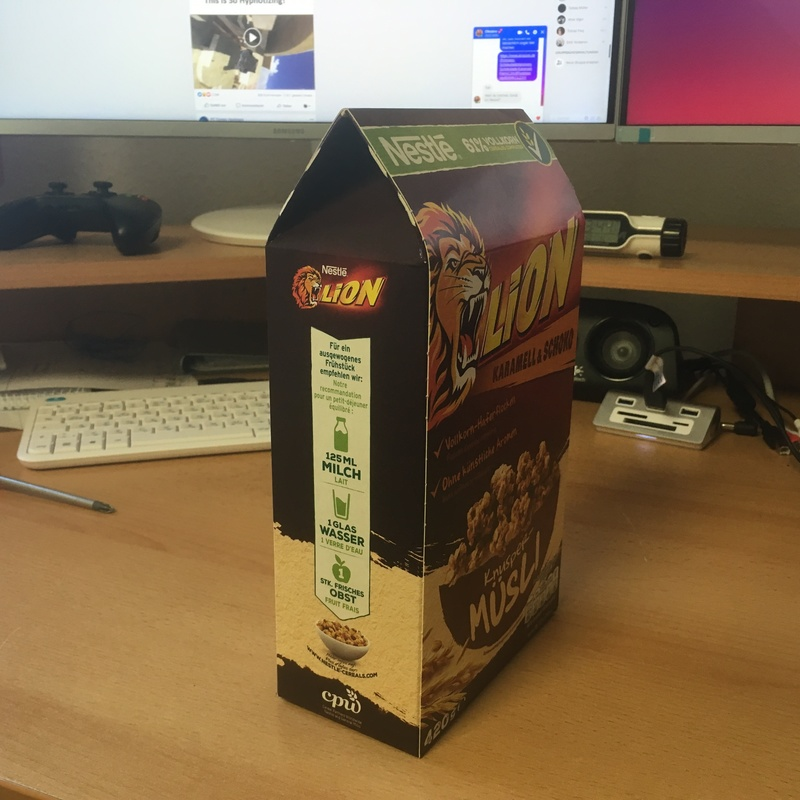cereals: (266, 107, 586, 758)
